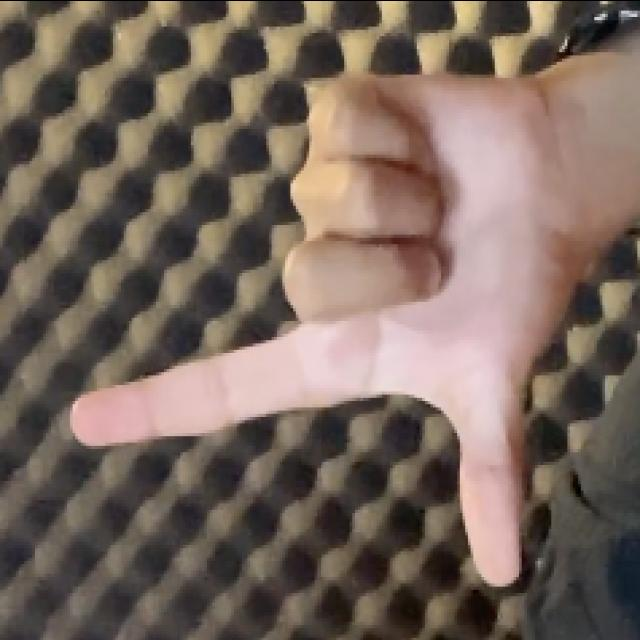LL: (59, 62, 577, 594)
